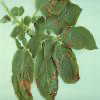Potato leaf early blight: (45, 1, 83, 35), (11, 49, 35, 99), (54, 42, 82, 84), (34, 48, 57, 99), (59, 25, 99, 52), (33, 0, 68, 17)
